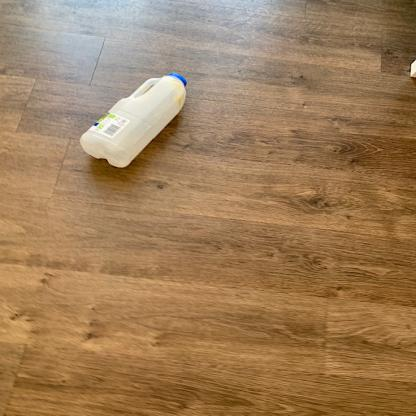trash: (77, 72, 189, 170)
